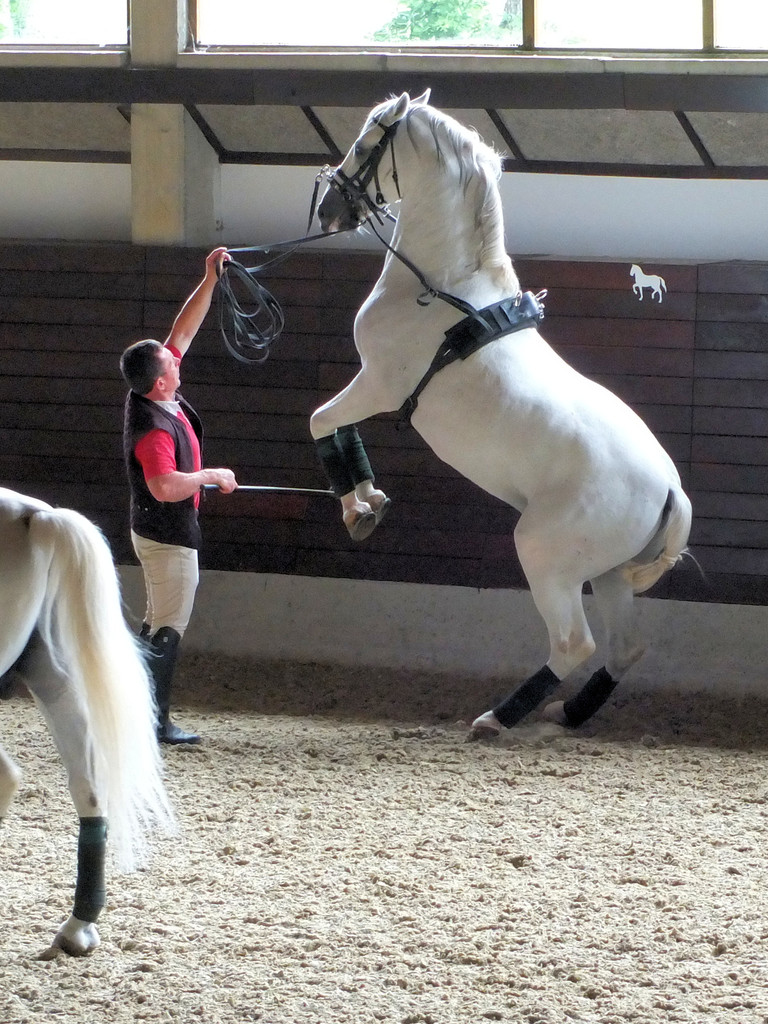horse: (310, 88, 704, 741)
